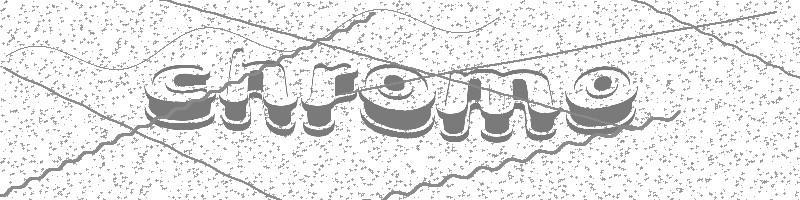c: (142, 62, 215, 129)
h: (222, 45, 298, 136)
m: (439, 65, 561, 144)
o: (562, 60, 639, 138), (362, 60, 438, 137)
r: (302, 56, 361, 139)
